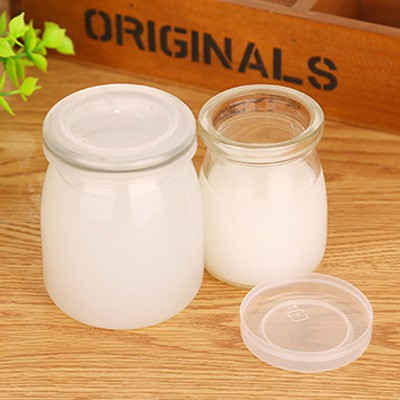glass_bottle: (35, 80, 204, 332), (199, 82, 336, 290)
